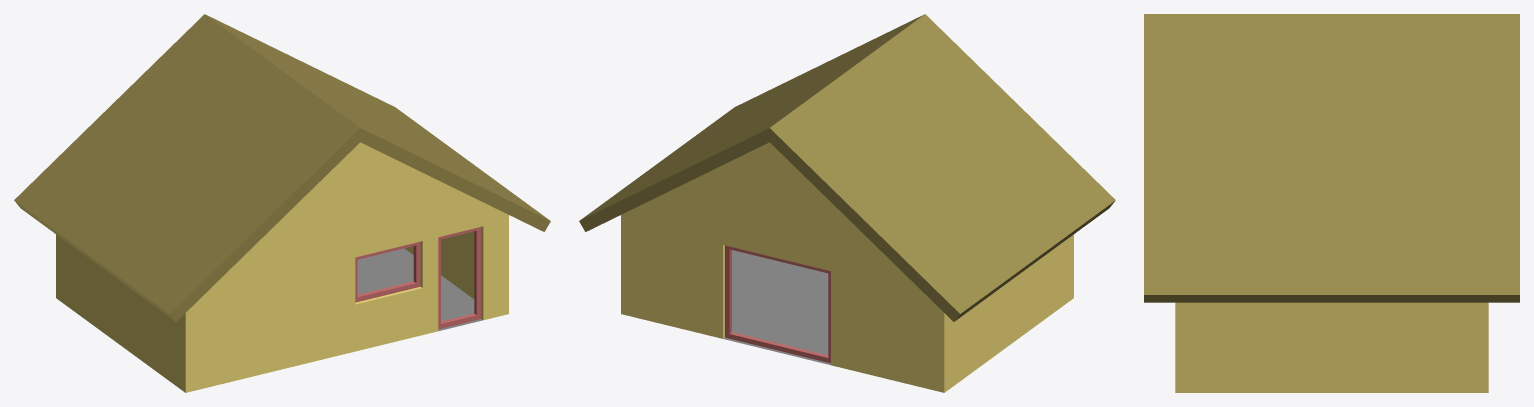
Rendered from result.glb.
3 views of the same model, side by side, from view 1: azimuth 30°, elevation 25°; view 2: azimuth 150°, elevation 25°; view 3: azimuth 270°, elevation 25° (orthographic). The views are drawn at different scales.
Parts seen in each view (by area): view 1: 31156b1c-846e-4a98-8b9e-db9ae3f1a201__undefined (×2), 11a8dae8-515d-47a9-8a7f-9f5980179d90__undefined, 2d823847-26eb-435e-ae43-12ae71d6540e__Plane_6, 4c7c03ce-c341-4fe3-ba8b-645e0d6b566f__Box, 3e9a437a-72ef-47a7-be84-3f082546f57a__Box_3; view 2: 31156b1c-846e-4a98-8b9e-db9ae3f1a201__undefined (×2), 11a8dae8-515d-47a9-8a7f-9f5980179d90__undefined, 2d823847-26eb-435e-ae43-12ae71d6540e__Plane_6, 5ce0f531-e5e6-4e8b-b879-cdb14dc1b0c9__Box_9; view 3: 31156b1c-846e-4a98-8b9e-db9ae3f1a201__undefined, 11a8dae8-515d-47a9-8a7f-9f5980179d90__undefined.
Boxes of the visible parts, x1=… form: 31156b1c-846e-4a98-8b9e-db9ae3f1a201__undefined (×2): x1=14, y1=14, x2=550, y2=321; 11a8dae8-515d-47a9-8a7f-9f5980179d90__undefined: x1=56, y1=142, x2=508, y2=392; 2d823847-26eb-435e-ae43-12ae71d6540e__Plane_6: x1=357, y1=248, x2=482, y2=331; 4c7c03ce-c341-4fe3-ba8b-645e0d6b566f__Box: x1=438, y1=227, x2=481, y2=329; 3e9a437a-72ef-47a7-be84-3f082546f57a__Box_3: x1=355, y1=241, x2=420, y2=302; 31156b1c-846e-4a98-8b9e-db9ae3f1a201__undefined (×2): x1=579, y1=14, x2=1115, y2=321; 11a8dae8-515d-47a9-8a7f-9f5980179d90__undefined: x1=621, y1=142, x2=1073, y2=392; 2d823847-26eb-435e-ae43-12ae71d6540e__Plane_6: x1=723, y1=250, x2=830, y2=365; 5ce0f531-e5e6-4e8b-b879-cdb14dc1b0c9__Box_9: x1=725, y1=245, x2=830, y2=363; 31156b1c-846e-4a98-8b9e-db9ae3f1a201__undefined: x1=1144, y1=14, x2=1519, y2=302; 11a8dae8-515d-47a9-8a7f-9f5980179d90__undefined: x1=1175, y1=302, x2=1488, y2=392.
Bounding box in the file's own units: 849 × 500 × 600.
